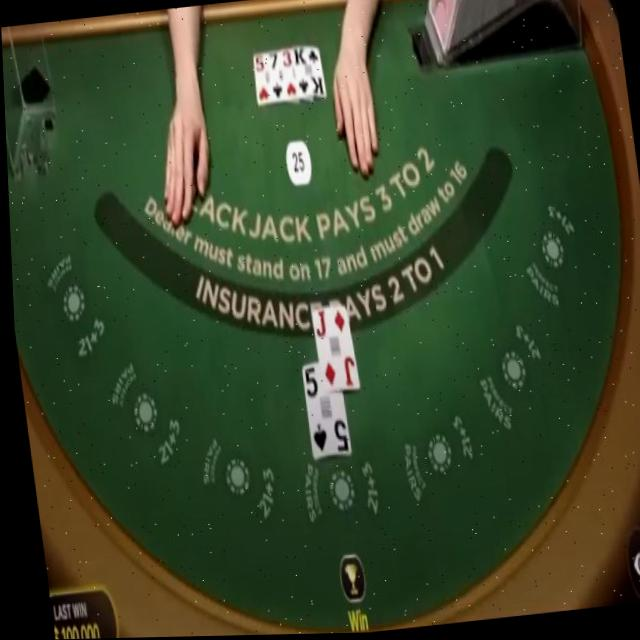Card-3: (280, 48, 298, 102)
Card-5: (298, 363, 347, 460), (252, 52, 272, 107)
Card-7: (268, 51, 286, 104)
Card-J: (308, 306, 355, 394)
Card-K: (291, 47, 325, 99)
